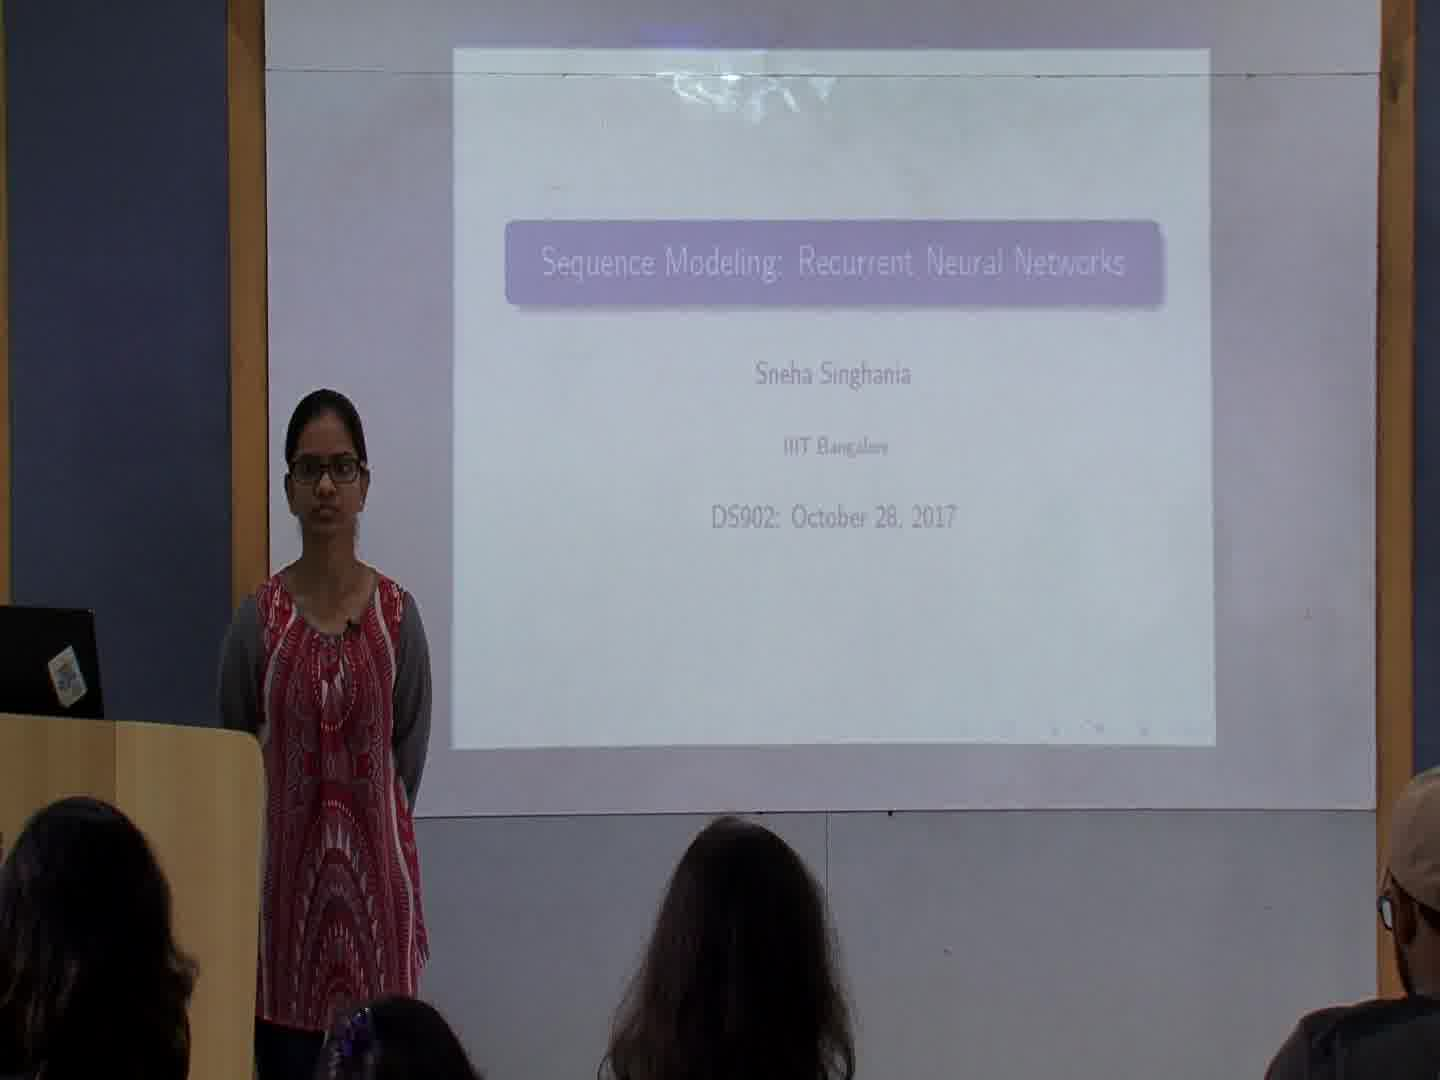slide: (450, 47, 1218, 748)
